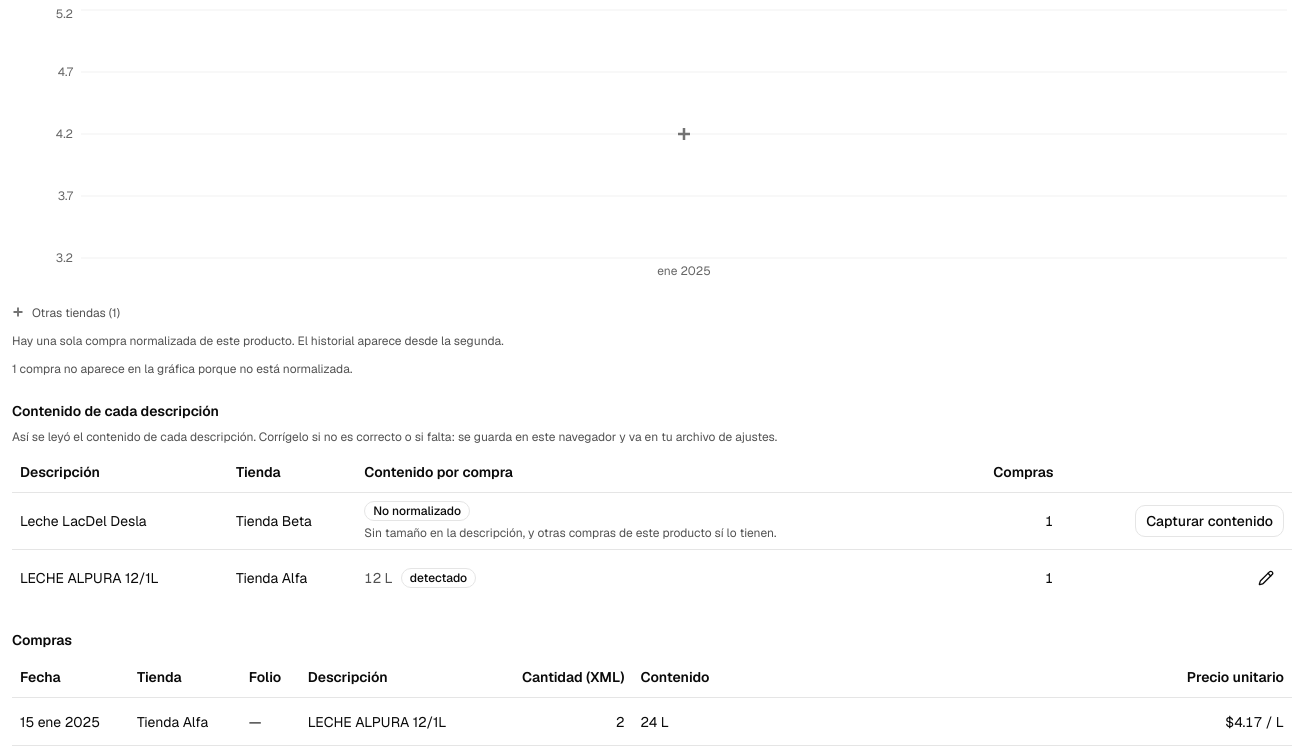
Test case: Content editor: opening, fields and live preview (D-13, D-14) › prefills the editor of a detected member from the reading
The image size is (1304, 746).
(page scrolled)
Click the button named "Corregir el contenido de «LECHE ALPURA 12/1L» (Tienda Alfa)" at x=1266, y=578, box 1248,560 -> 1284,596
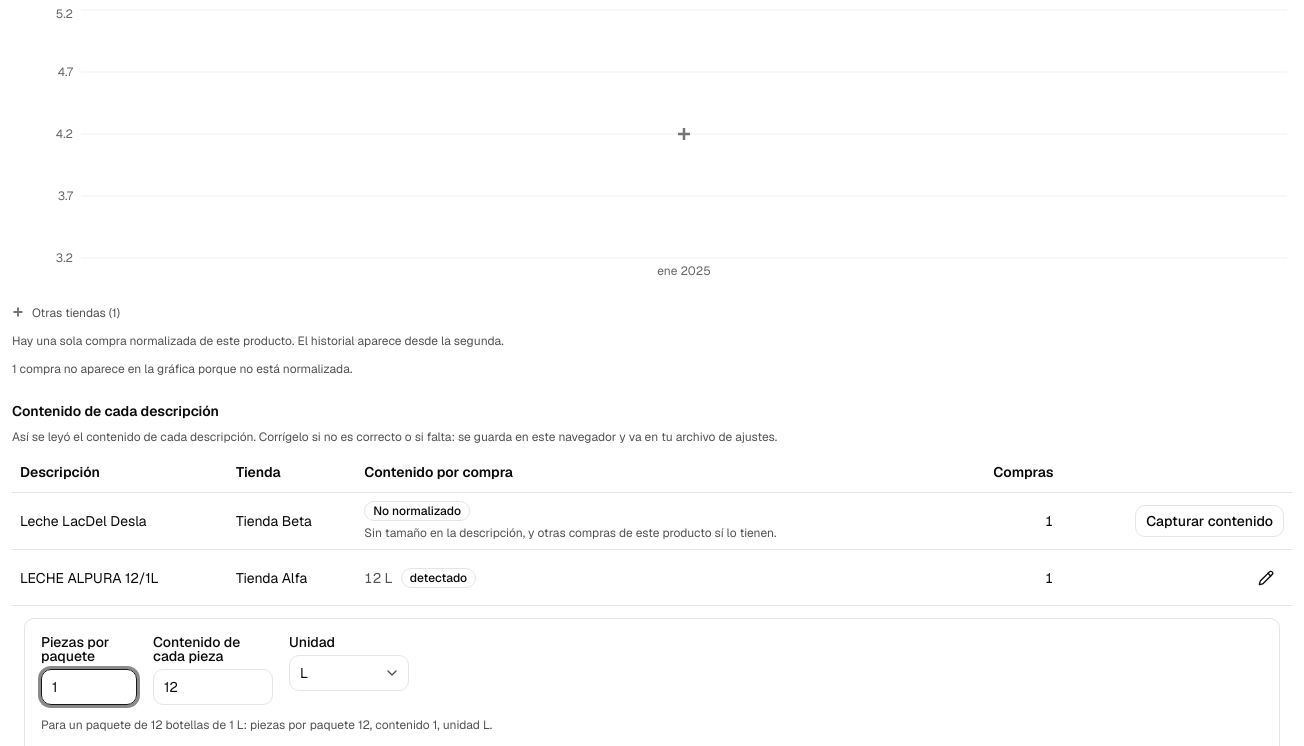
Result: the field labelled "Piezas por paquete" holds "1" at 41,669 -> 137,705
Result: the field labelled "Contenido de cada pieza" holds "12" at 153,669 -> 273,705
Result: the dropdown named "Unidad" shows "L" at 289,655 -> 409,691
